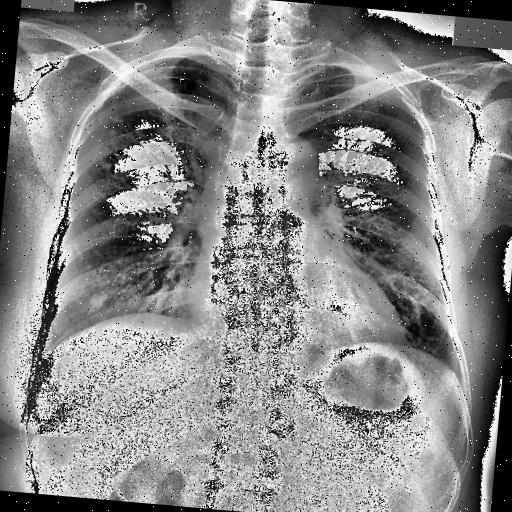0- Aortic enlargement: (260, 128, 322, 209), (256, 130, 323, 190)
13- Pulmonary fibrosis: (99, 112, 145, 172), (98, 102, 123, 170)
2- Calcification: (88, 290, 108, 314)
7- Lung Opacity: (91, 110, 125, 171)
8- Nodule-Mass: (87, 290, 107, 318), (88, 288, 106, 312)
